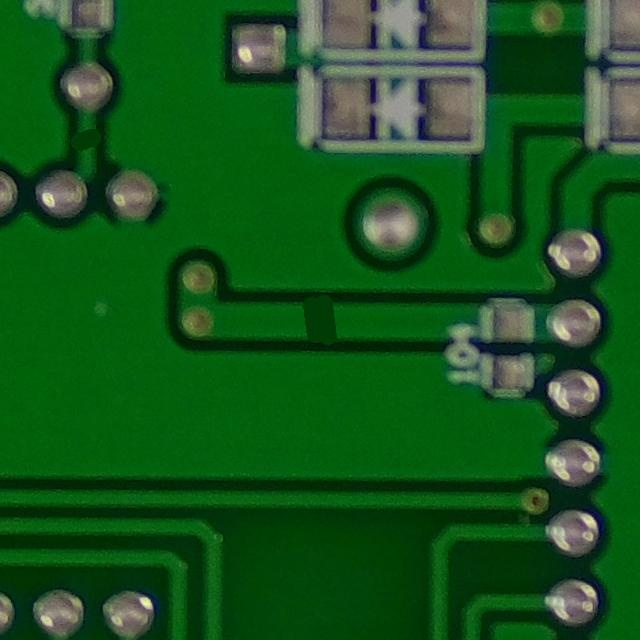open_circuit: (284, 293, 356, 347)
